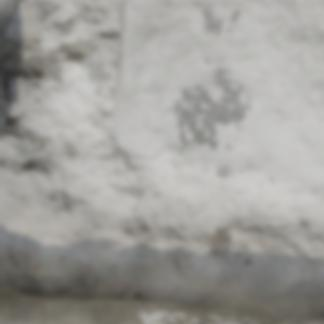brick: (0, 0, 14, 135)
broken_brick: (111, 0, 323, 190), (0, 299, 308, 323), (22, 293, 279, 315), (296, 317, 323, 320)
crack: (0, 292, 323, 323)
